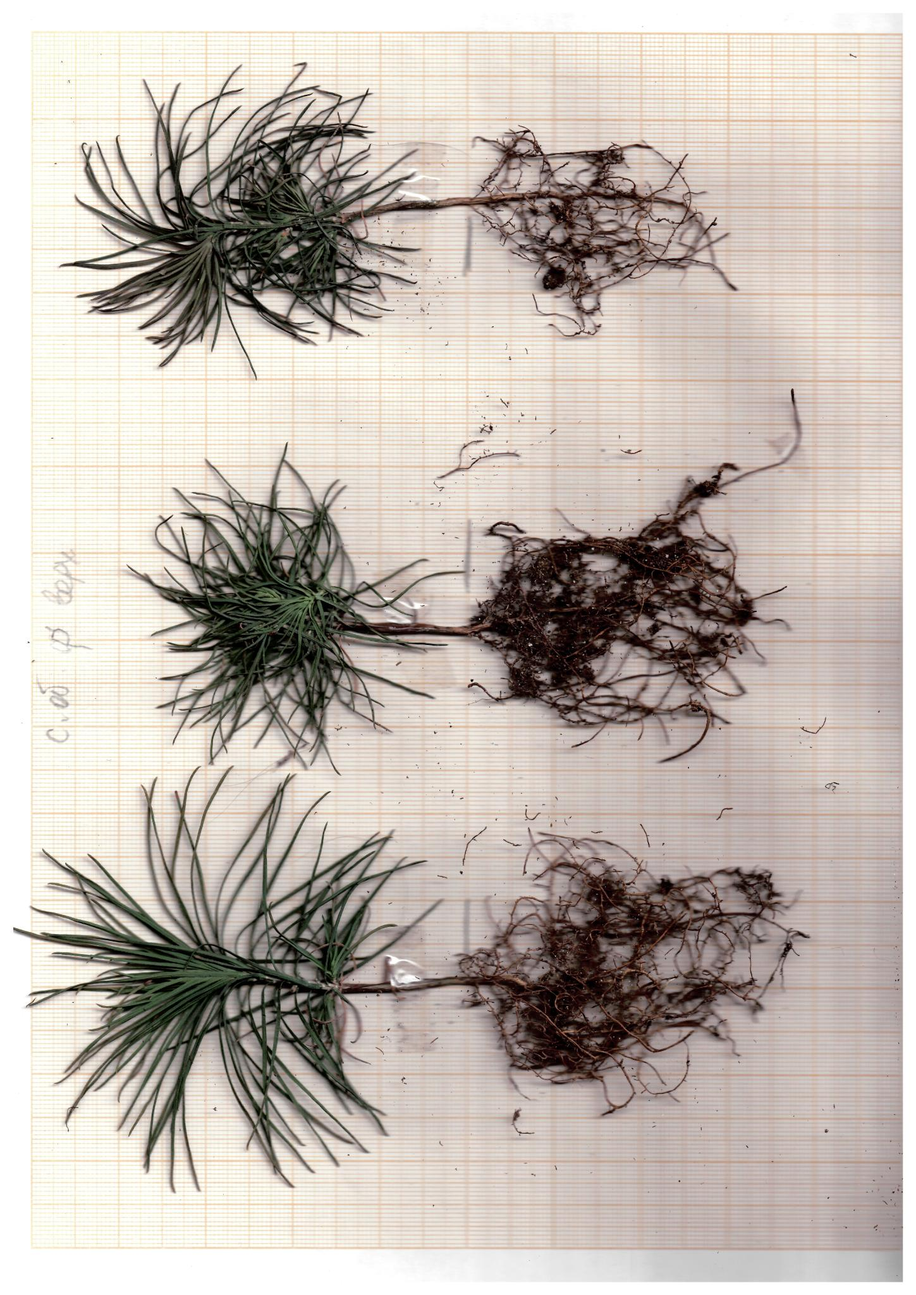Seeding: (26, 785, 805, 1193), (126, 412, 796, 783), (52, 33, 746, 373)
